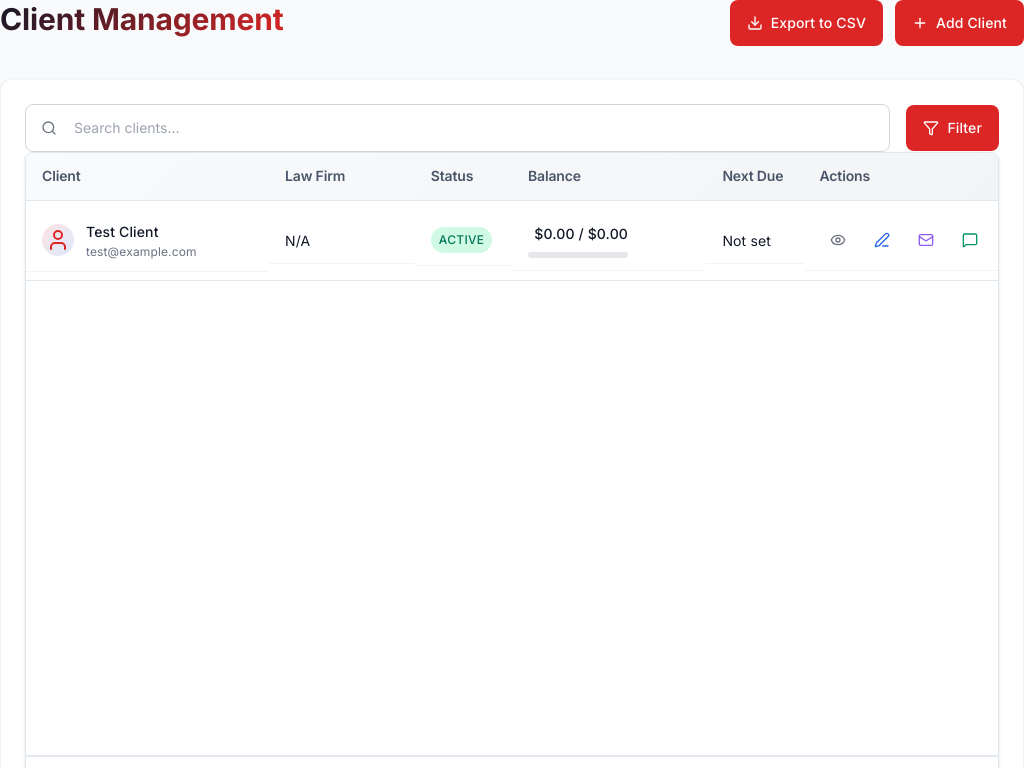
Test: ClientsTab integration › opens add client modal when button clicked
Click the button "Add Client".
click(960, 23)  # box [895,0,1023,46]
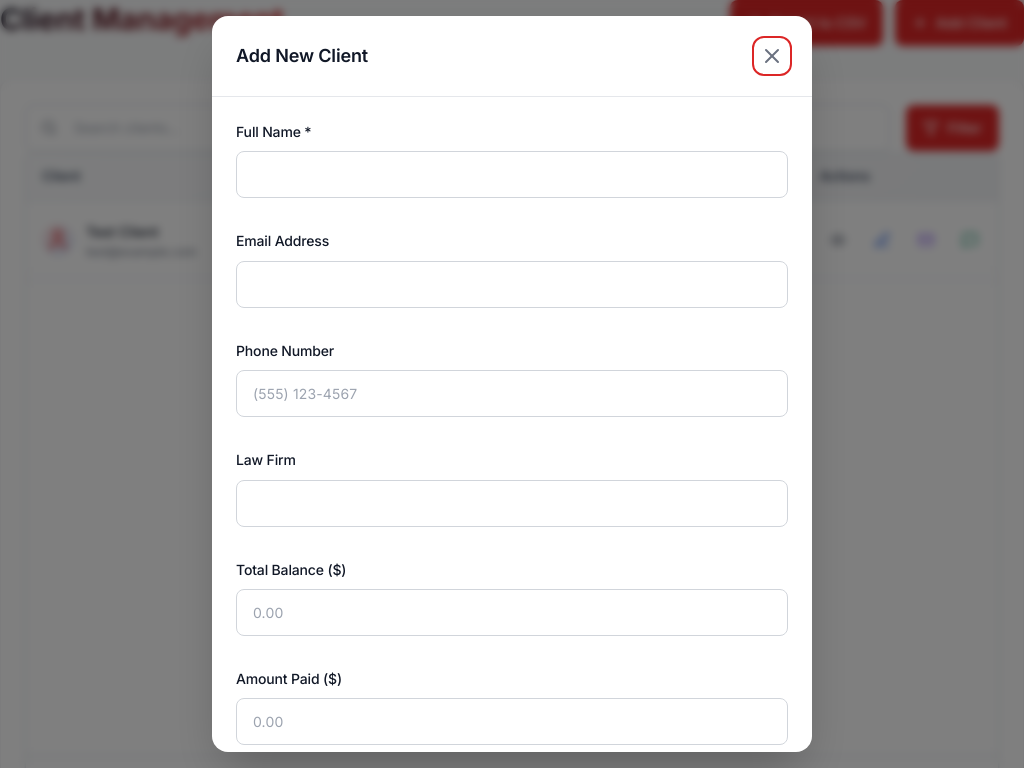
Expected: the heading "Add New Client" is shown, [236,44,368,68]
